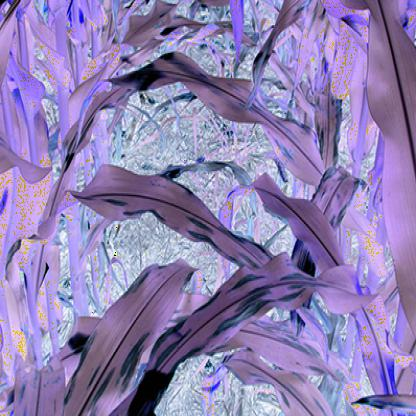corn leaf blight: (122, 255, 364, 415), (72, 50, 339, 188), (37, 160, 281, 270), (73, 260, 205, 415)
